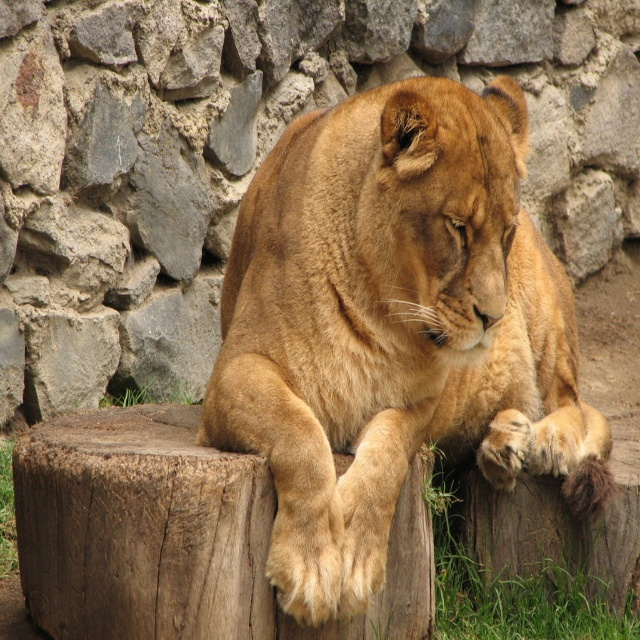Lion: (194, 73, 616, 631)
